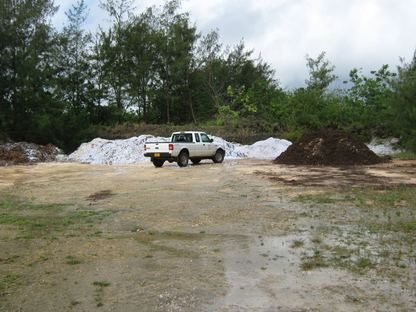truck: (142, 129, 231, 169)
